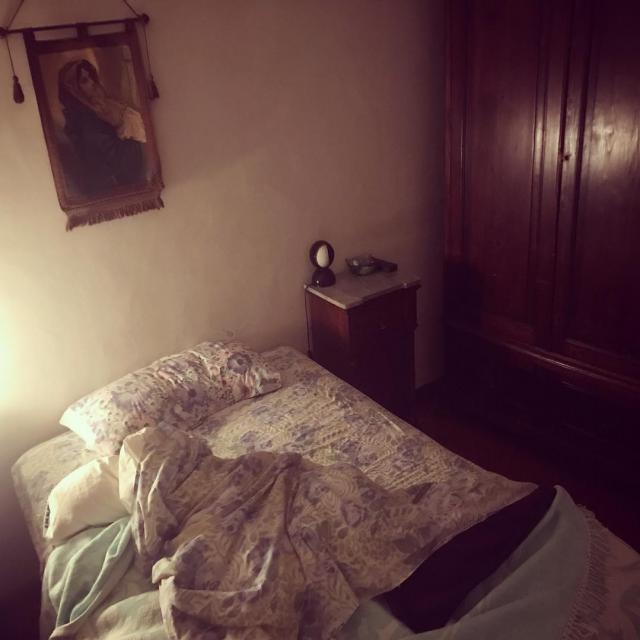bed: (0, 321, 573, 640)
